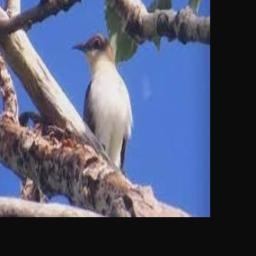Cuckoo: (70, 34, 133, 171)
